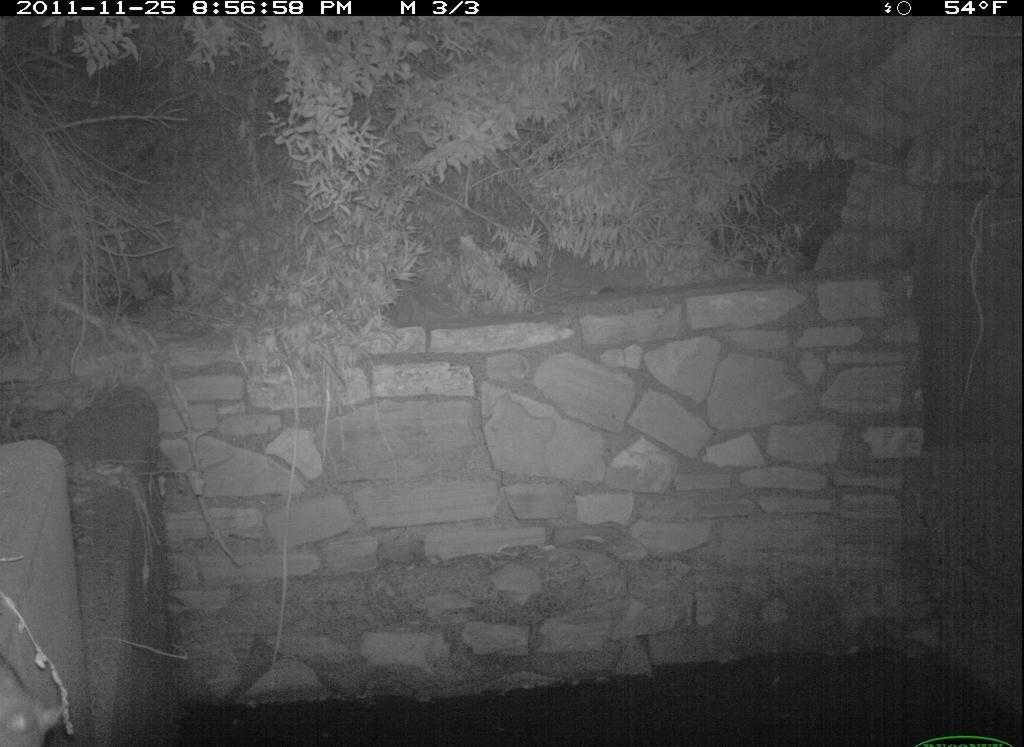rodent: (2, 643, 68, 747)
